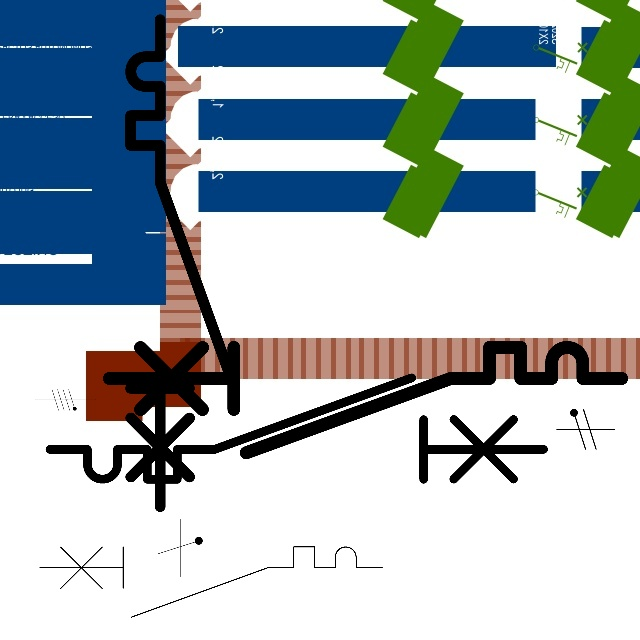interruptor_termomagnetico: (95, 334, 634, 466), (37, 365, 556, 492), (118, 7, 243, 519), (31, 538, 391, 626)
